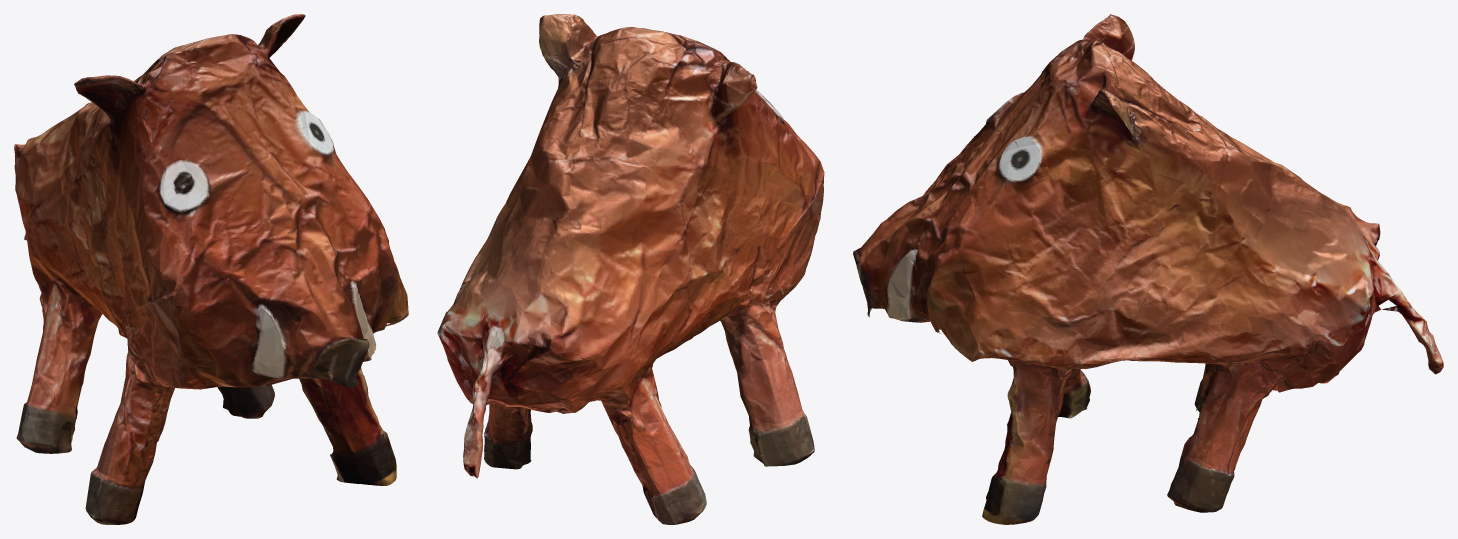
Rendered from inoshi1-opt-draco.glb.
3 renders of one model, left to right at view 1: azimuth 30°, elevation 25°; view 2: azimuth 150°, elevation 25°; view 3: azimuth 270°, elevation 25°, orthographic. The views are drawn at different scales.
Visible parts, largest first — view 1: mesh; view 2: mesh; view 3: mesh.
Part boxes in pixels (bbox=[...]): mesh: bbox=[14, 14, 408, 524]; mesh: bbox=[437, 14, 824, 524]; mesh: bbox=[853, 14, 1443, 524].
Size of the model in its own units: 0.2824 by 0.4121 by 0.5416.
Materials: 1 (1 with a texture image).
